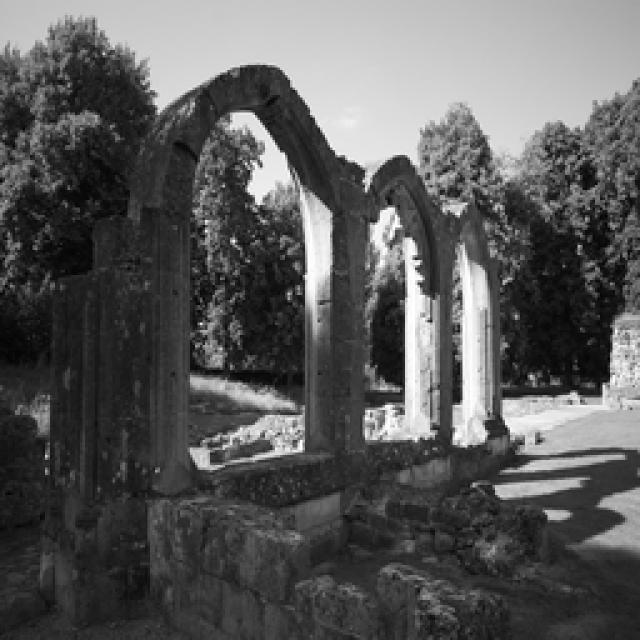Abbey: (182, 116, 496, 485)
